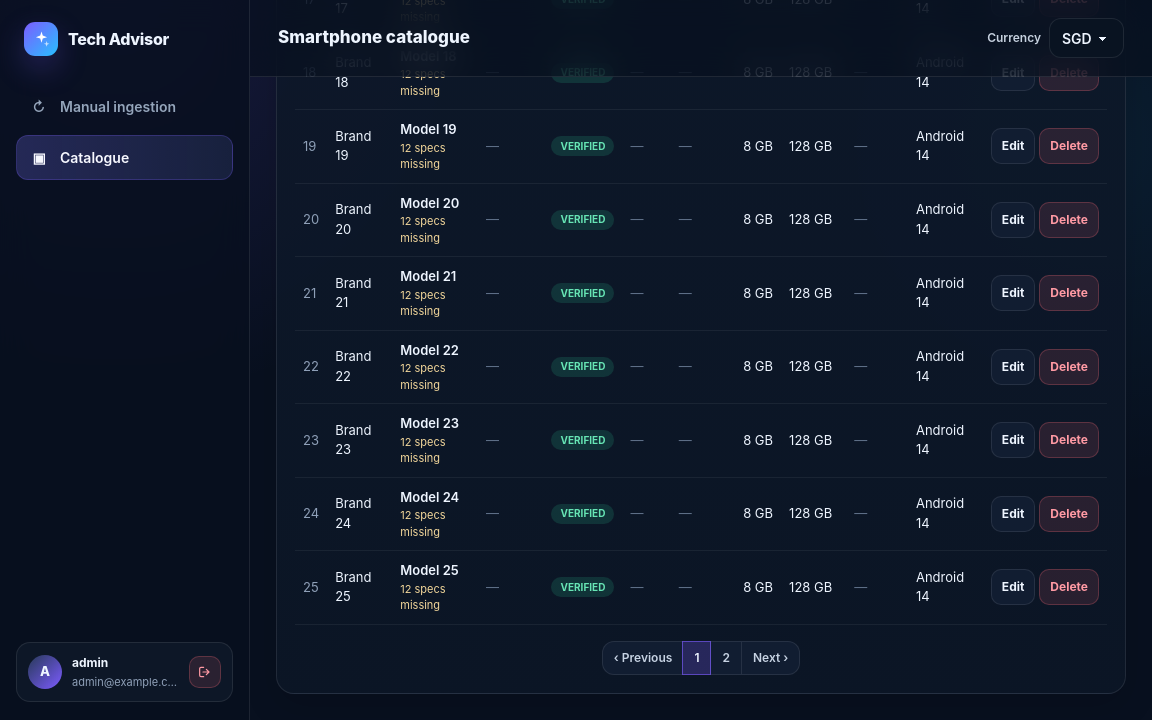
AdminCatalogue › lists entries 25 per page and pages through them
This screenshot has width=1152, height=720.
(page scrolled)
Click the button named "Page 2" at [726, 658], box [710,640,742,674]
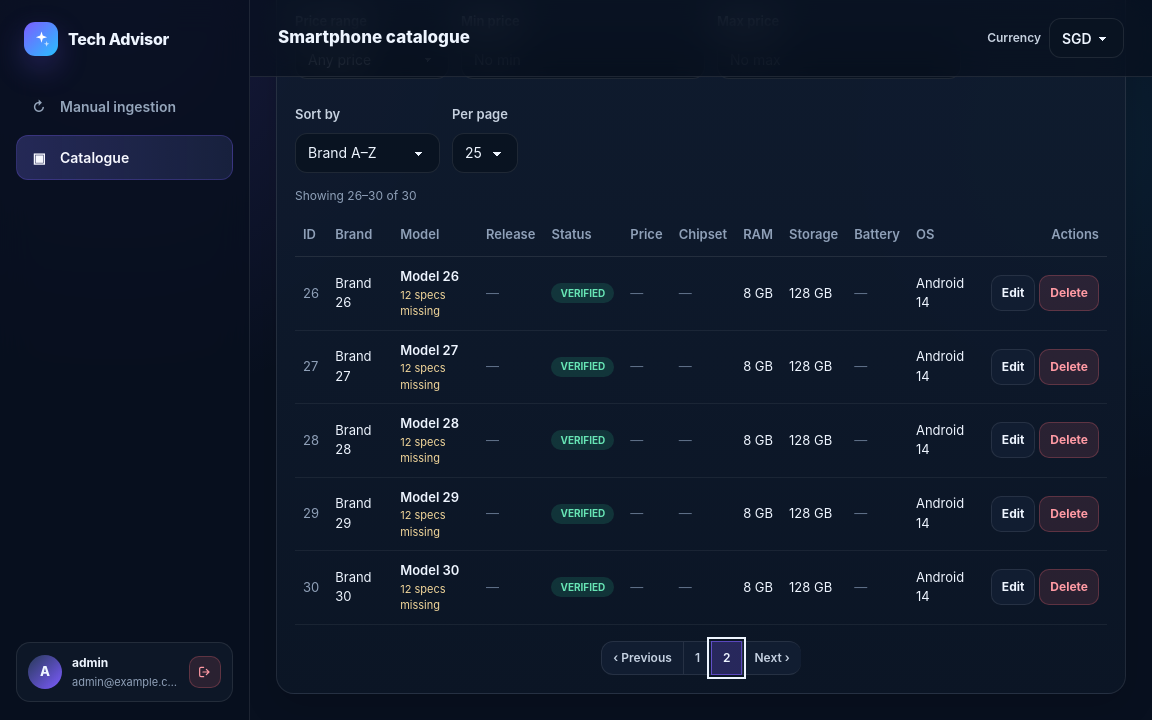
Check: the text "Showing 26–30 of 30" is shown, box [295,188,416,202]
Check: the cell "Model 26 12 specs missing" is shown, box [392,256,478,330]
